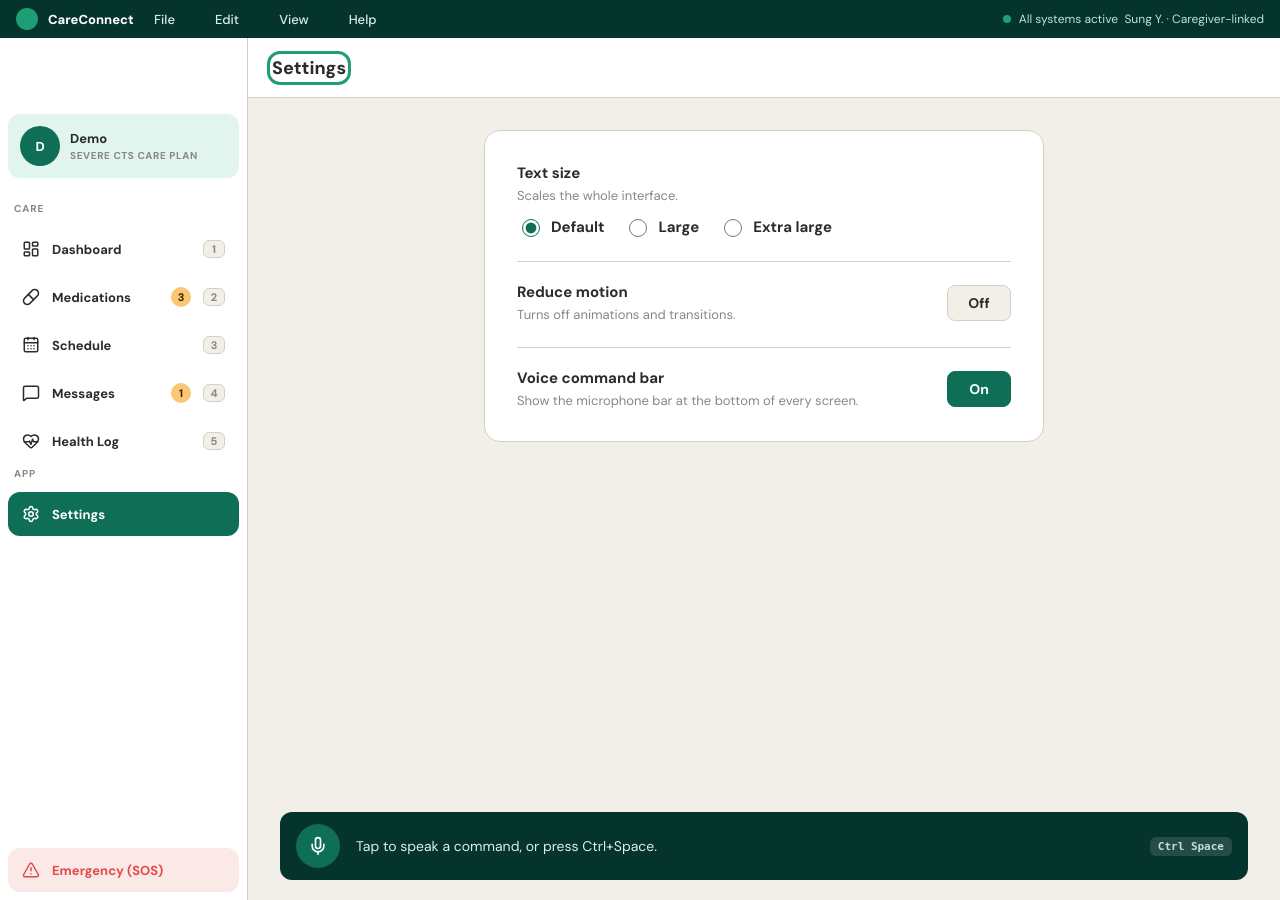
SettingsScreen › hides the voice command bar when toggled off
Check: the button named "Start voice command" is shown, box [296,824,340,868]
Click the button named "Voice command bar": (979, 388) [947,370,1011,406]
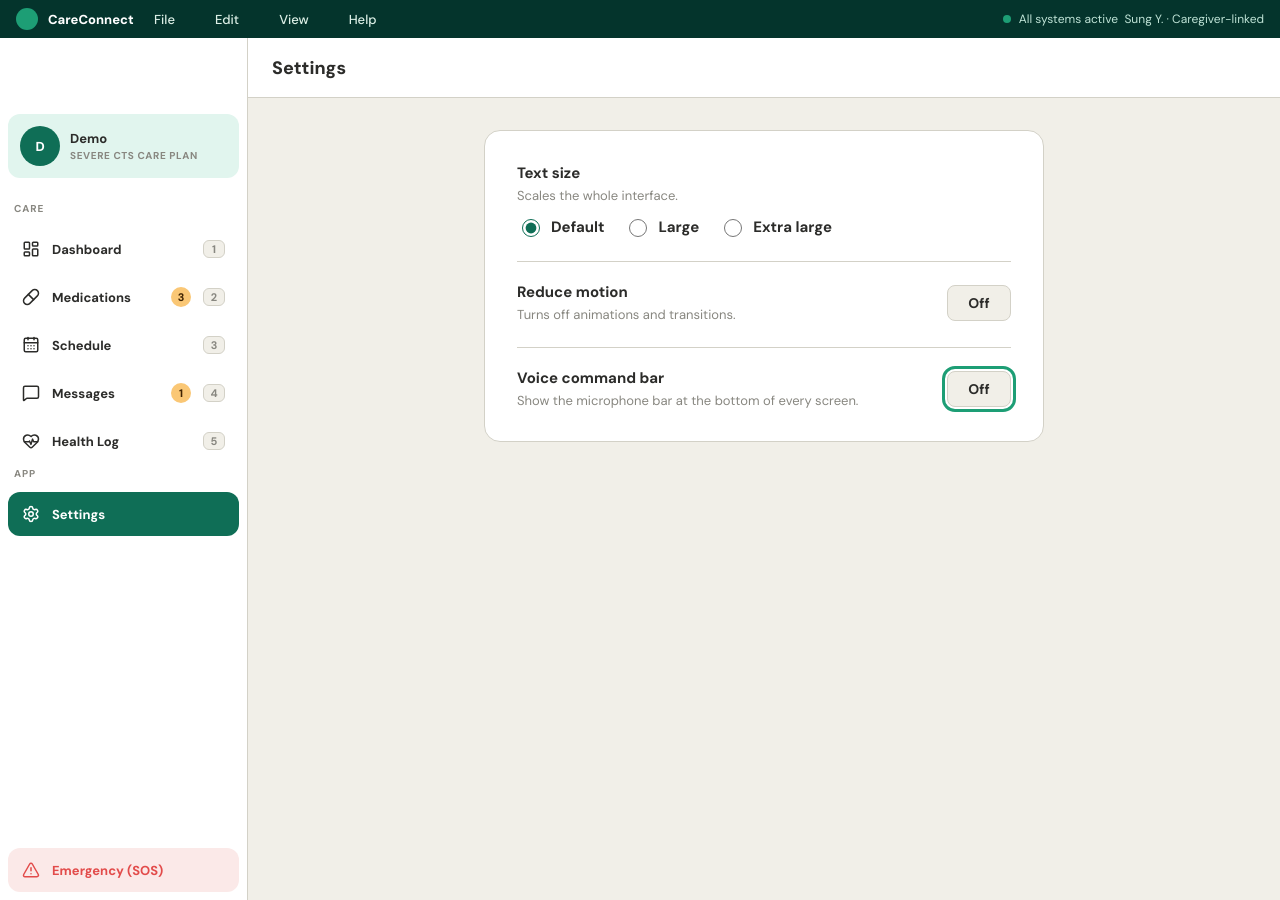
Check: the button is gone
